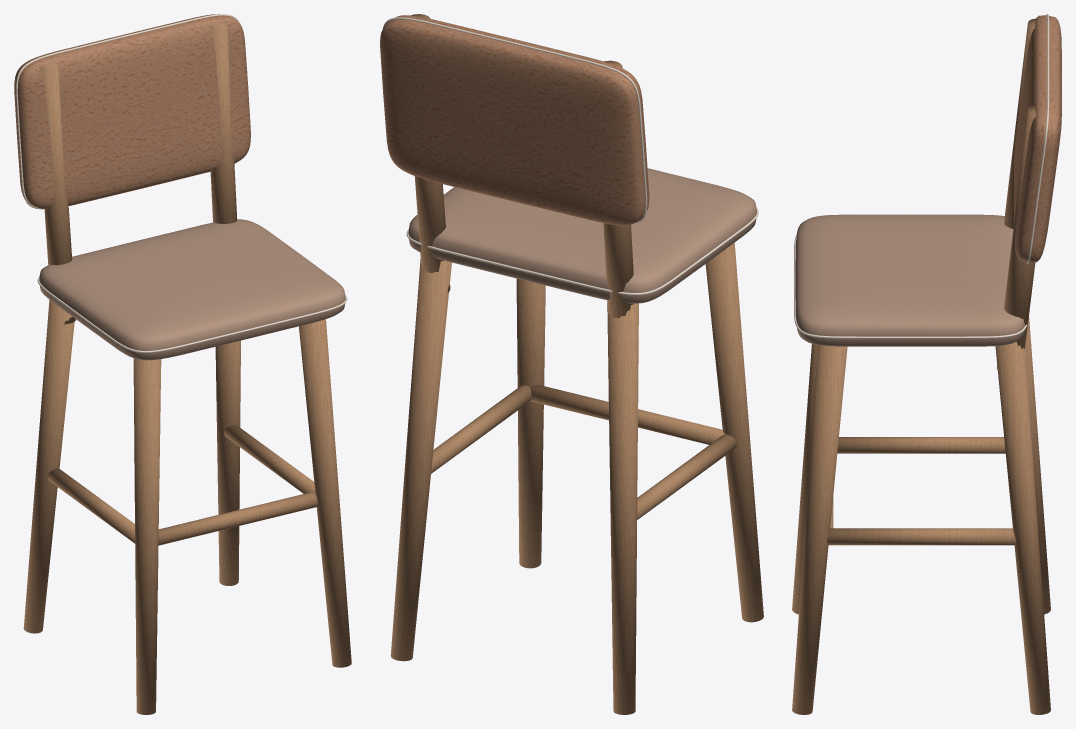
Rendered from contemporary.stool.gltf.
The picture shows the model from 3 angles, left to right: view 1: azimuth 30°, elevation 25°; view 2: azimuth 150°, elevation 25°; view 3: azimuth 270°, elevation 25°; orthographic projection. The views are drawn at different scales.
Visible parts, largest first — view 1: contemporary.stool.leg; view 2: contemporary.stool.leg; view 3: contemporary.stool.leg.
Boxes of the visible parts, box(x1,y1,x2,y2) form: contemporary.stool.leg: box(14, 14, 351, 714); contemporary.stool.leg: box(380, 14, 763, 714); contemporary.stool.leg: box(792, 14, 1061, 714).
Bounding box in the file's own units: 0.4302 × 1.03 × 0.4184.
Materials: 4 (3 with a texture image).
